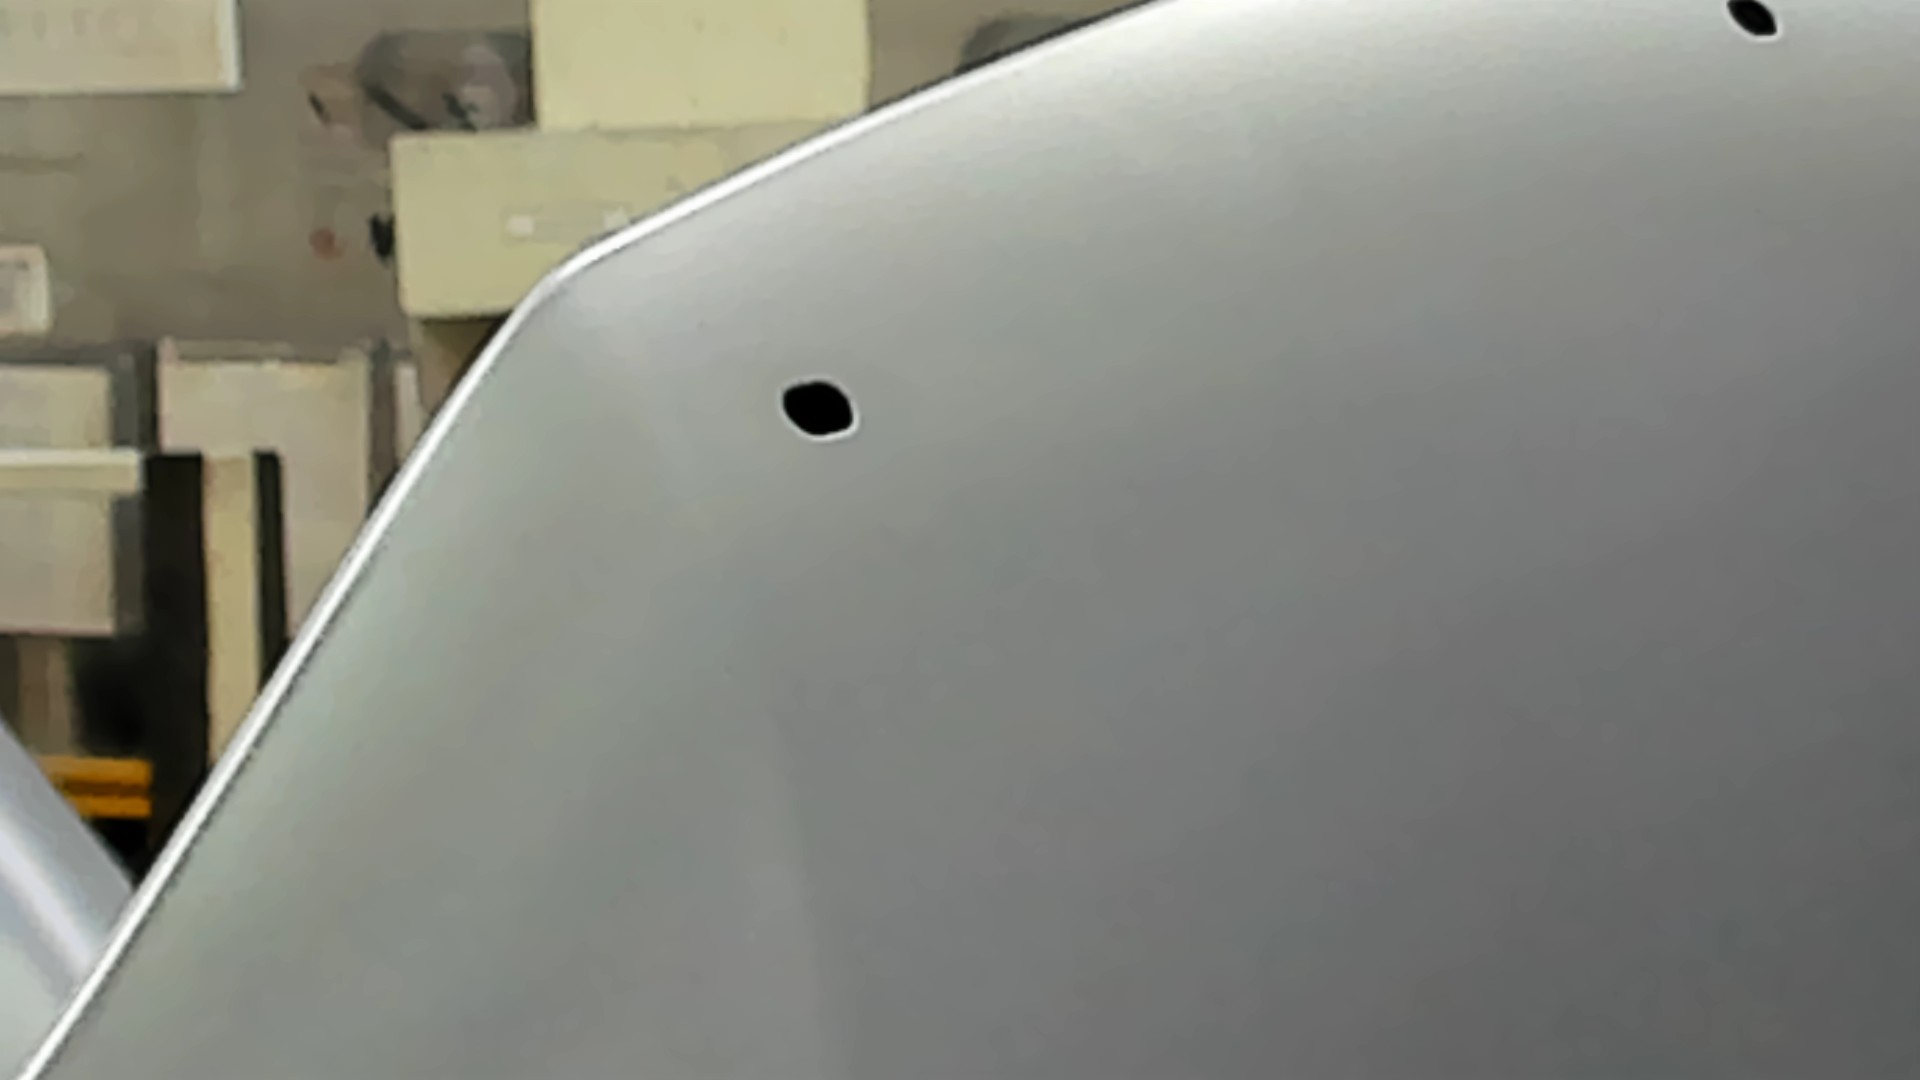amorfo: (773, 378, 868, 440), (1720, 1, 1782, 40)
capo: (984, 105, 1920, 1080)
